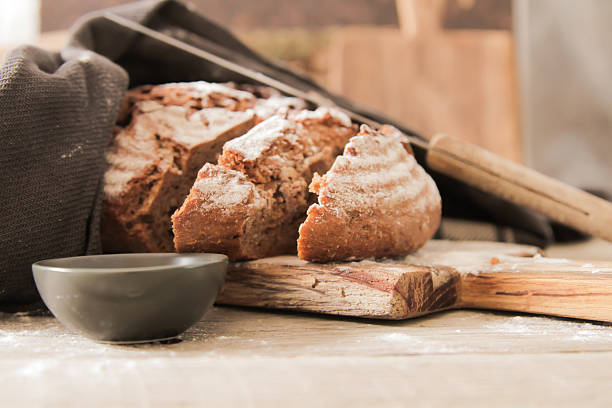slice of bread: (142, 121, 376, 242)
